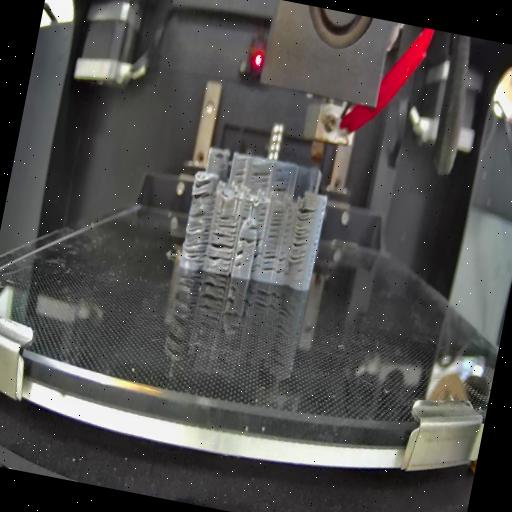cracks: (178, 208, 214, 266), (289, 207, 315, 266), (204, 232, 236, 274), (190, 176, 216, 203), (266, 208, 284, 244), (271, 168, 292, 196), (250, 238, 264, 275), (260, 250, 278, 276), (216, 216, 238, 236), (251, 169, 271, 186), (232, 248, 245, 270), (238, 232, 257, 246), (255, 206, 268, 225), (276, 254, 287, 276), (234, 166, 248, 182), (241, 202, 251, 222), (248, 222, 258, 232)
